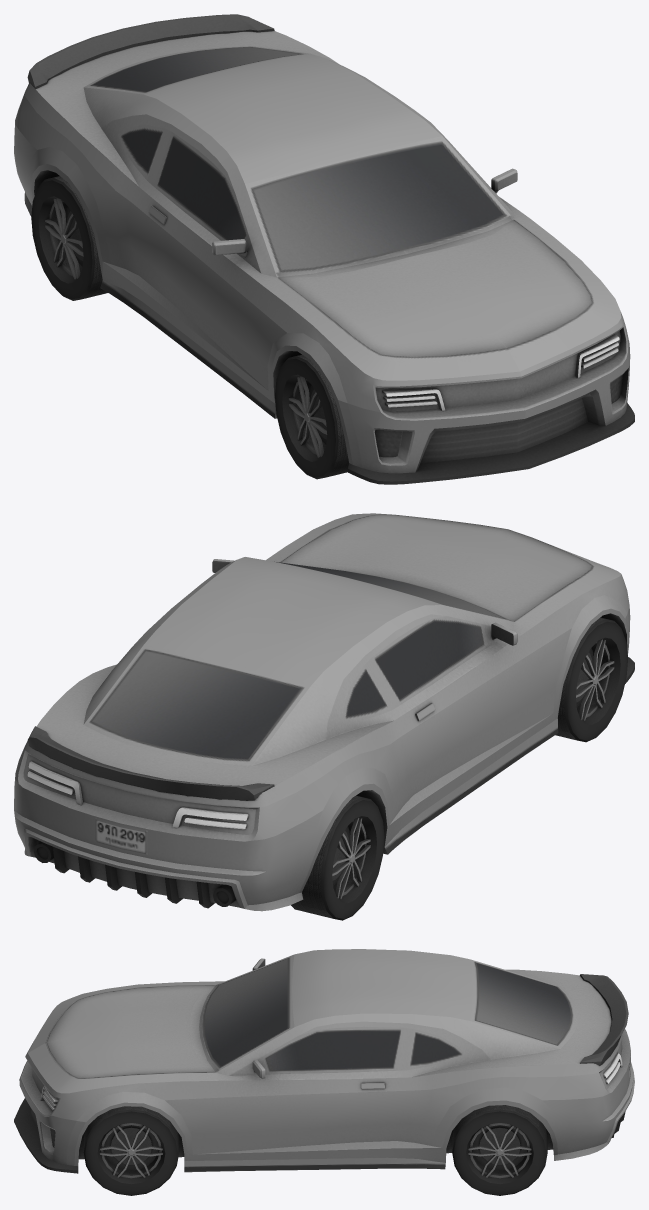
Rendered from carModel.fbx.
3 renders of one model, top to bottom at view 1: azimuth 30°, elevation 25°; view 2: azimuth 150°, elevation 25°; view 3: azimuth 270°, elevation 25°, orthographic. The views are drawn at different scales.
Parts seen in each view (by area): view 1: Body, FrontRightWheel, RearRightWheel; view 2: Body, RearRightWheel, FrontRightWheel; view 3: Body, RearLeftWheel, FrontLeftWheel.
Boxes of the visible parts, x1,y1,x2,y2 form: Body: [14, 14, 634, 484]; FrontRightWheel: [275, 354, 348, 479]; RearRightWheel: [31, 176, 107, 300]; Body: [14, 513, 634, 911]; RearRightWheel: [291, 795, 384, 920]; FrontRightWheel: [555, 617, 627, 742]; Body: [14, 949, 634, 1173]; RearLeftWheel: [452, 1105, 547, 1195]; FrontLeftWheel: [83, 1106, 179, 1195].
Size of the model in its own units: 206 by 140 by 482.
